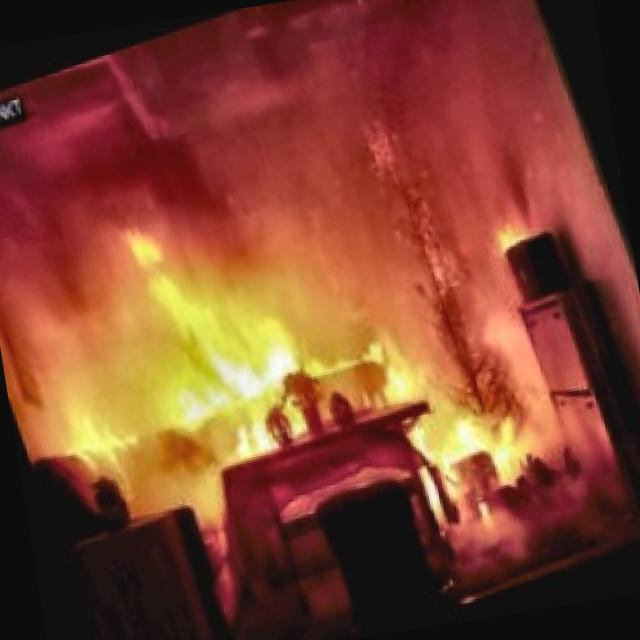fire: (0, 97, 509, 567)
